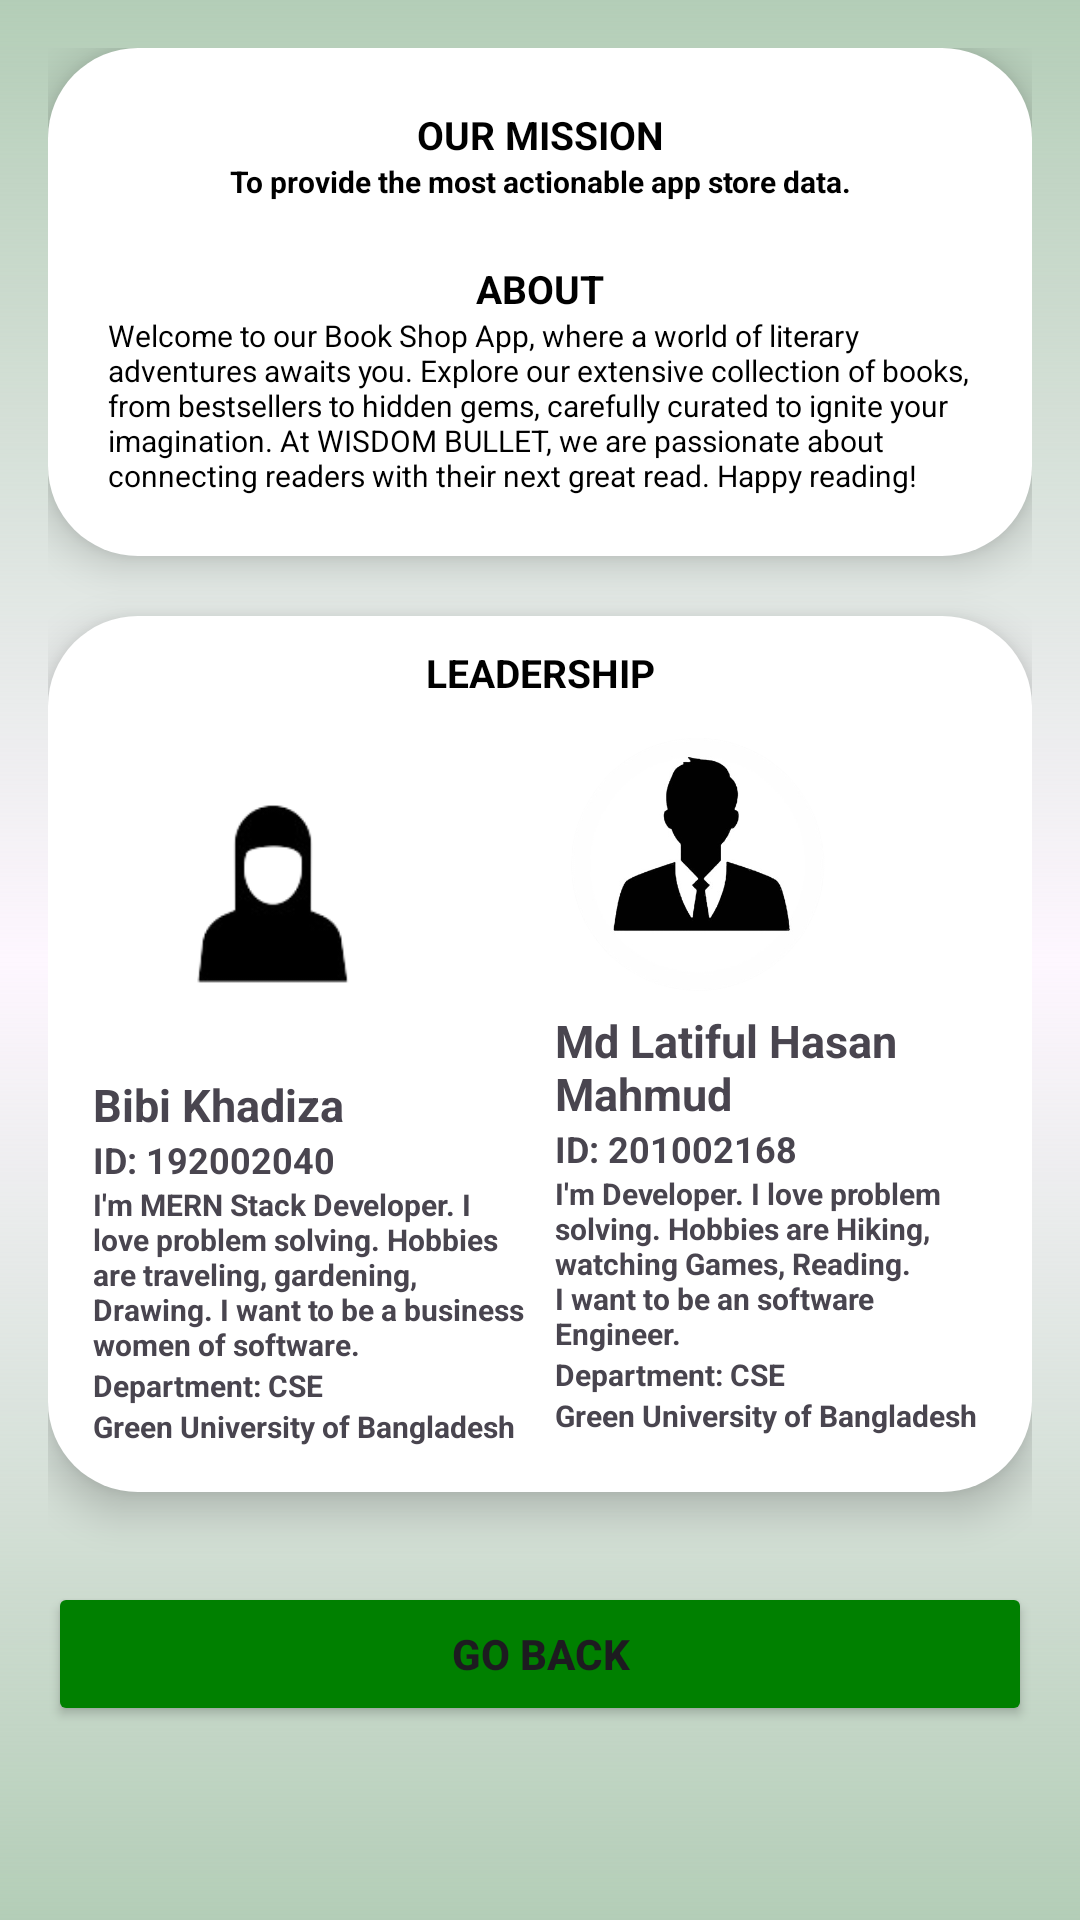

Where to tap for icons on this 1080 x 1920 app screen, as [x,y]:
female: [272,894]
male: [701,844]
